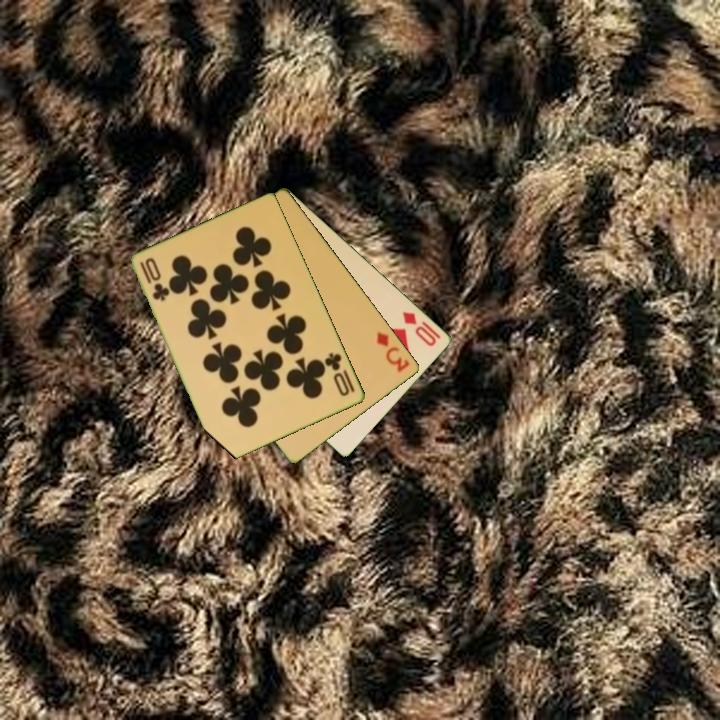10c: (321, 349, 358, 399), (136, 258, 171, 304)
10d: (399, 308, 440, 349)
3d: (373, 328, 413, 375)
